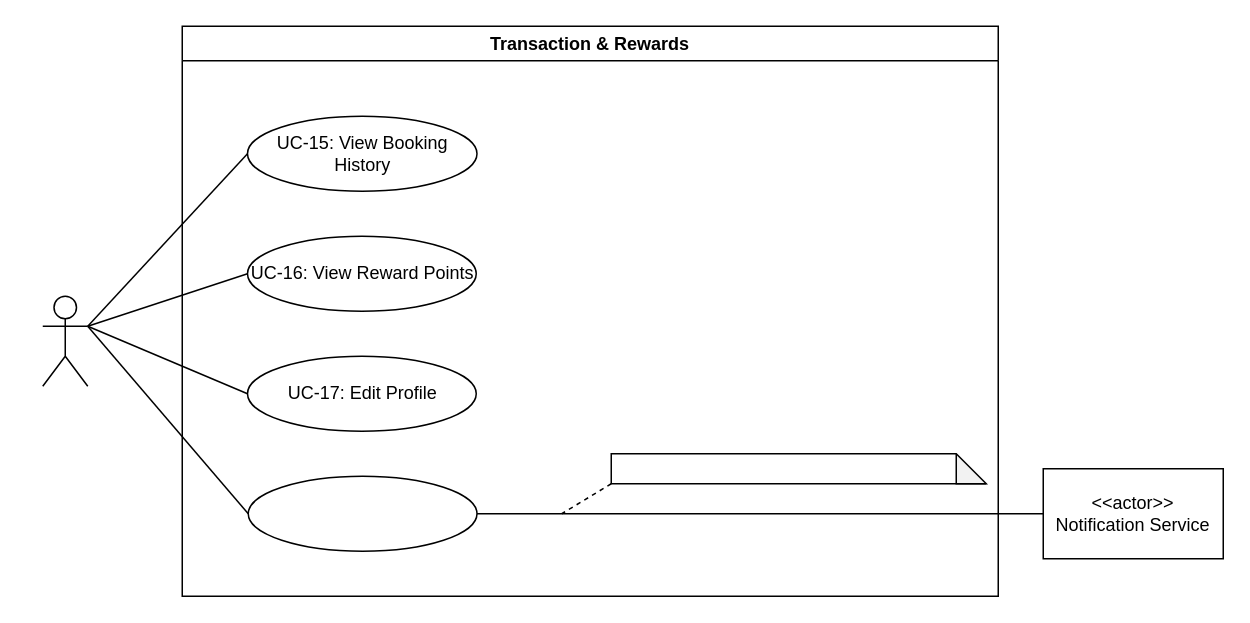
This 1250x623 diagram has some shape labels left out. The shapes that lost their labels are listed below. From the top down, each one's box as (x1, y1, x2, y2) in pixels, then its label:
(41, 295, 88, 386): Customer
(610, 452, 986, 484): Gửi thông báo khuyến mãi, voucher,...
(247, 475, 477, 551): UC-18: Receive Notifications
